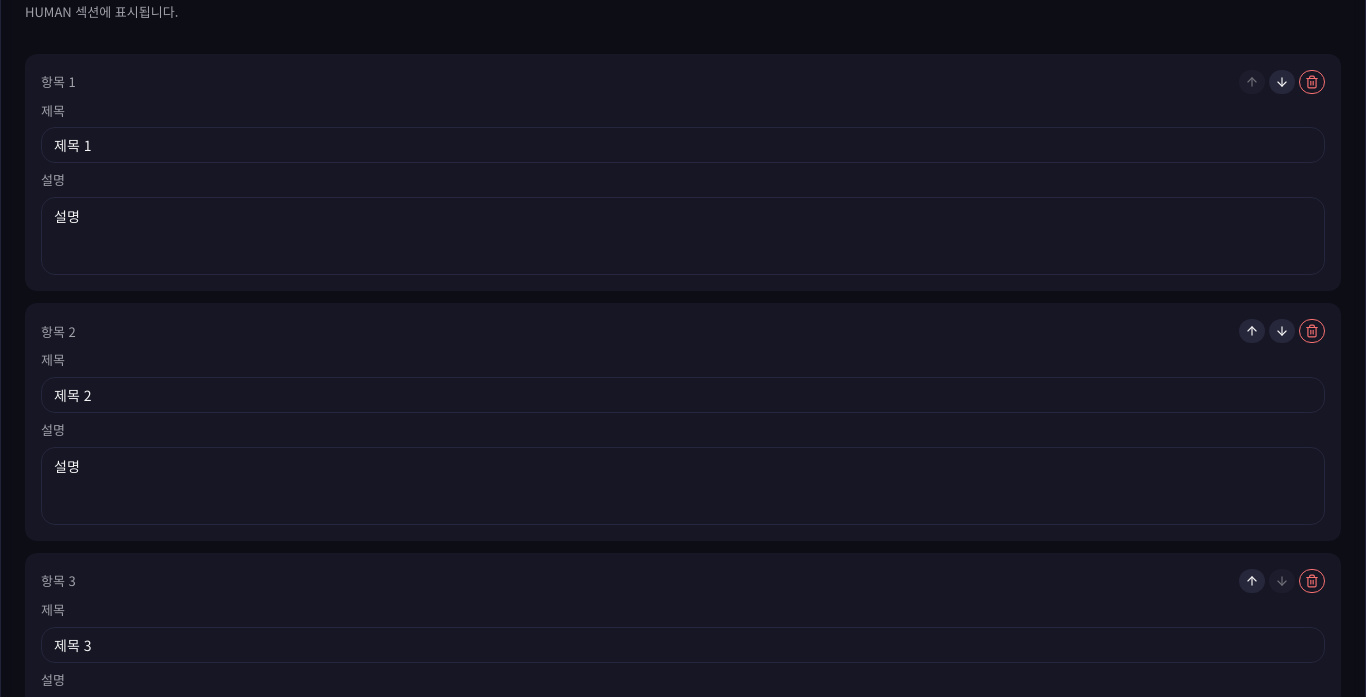
Test case: 제작 과정 폼의 검증 › 규칙에 맞게 고치면 그 섹션의 내용으로 저장하고, 저장한 값을 새 기준으로 삼는다
This screenshot has width=1366, height=697.
In the field labelled "제목" below "항목 1": (683, 145) x1=41 y1=127 x2=1325 y2=163, type " 고침"
(page scrolled)
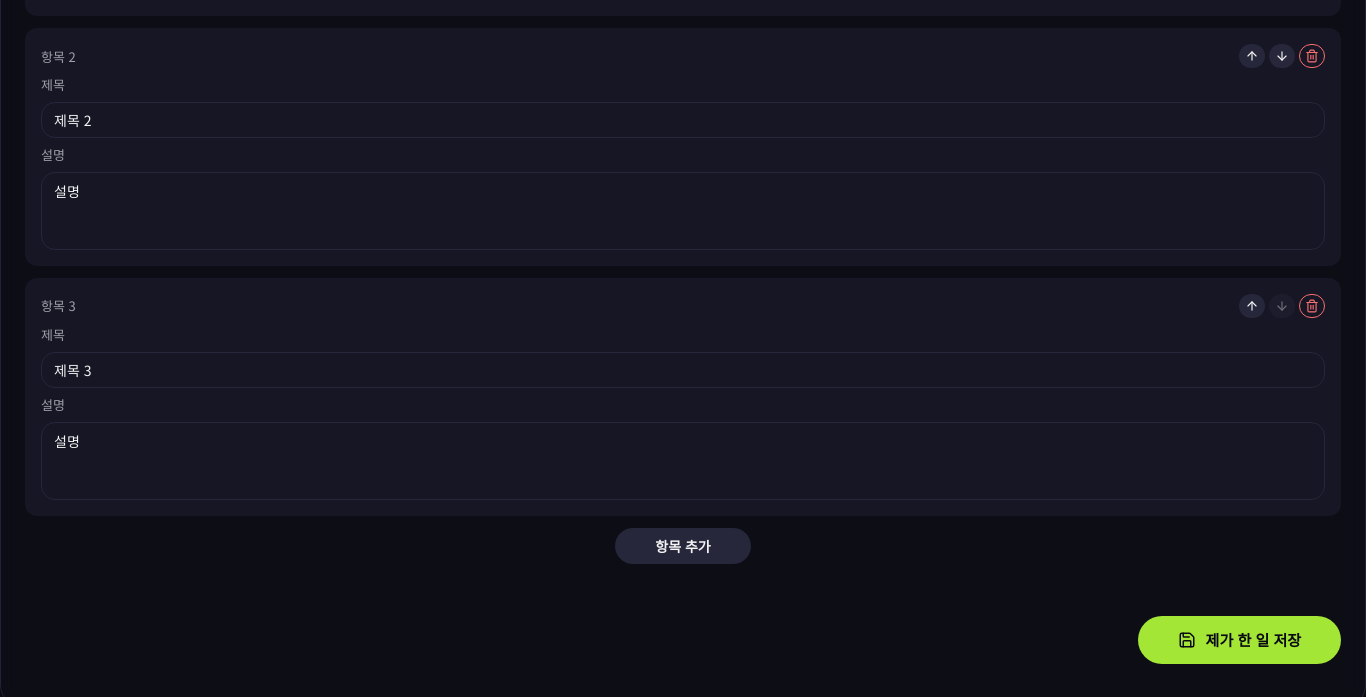
expect the button "제가 한 일 저장" is enabled: met
Click the button "제가 한 일 저장": (1239, 640) x1=1138 y1=616 x2=1341 y2=664
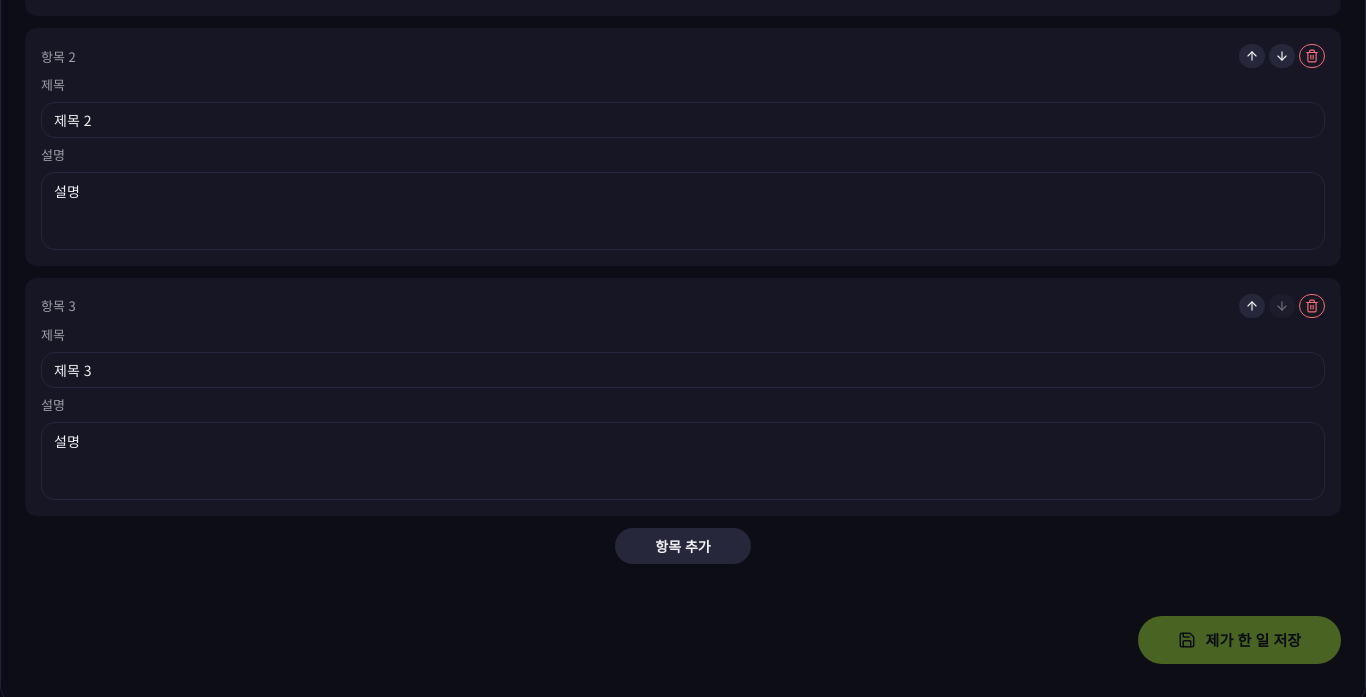
expect the button "제가 한 일 저장" is disabled: met, box x1=1138 y1=616 x2=1341 y2=664
